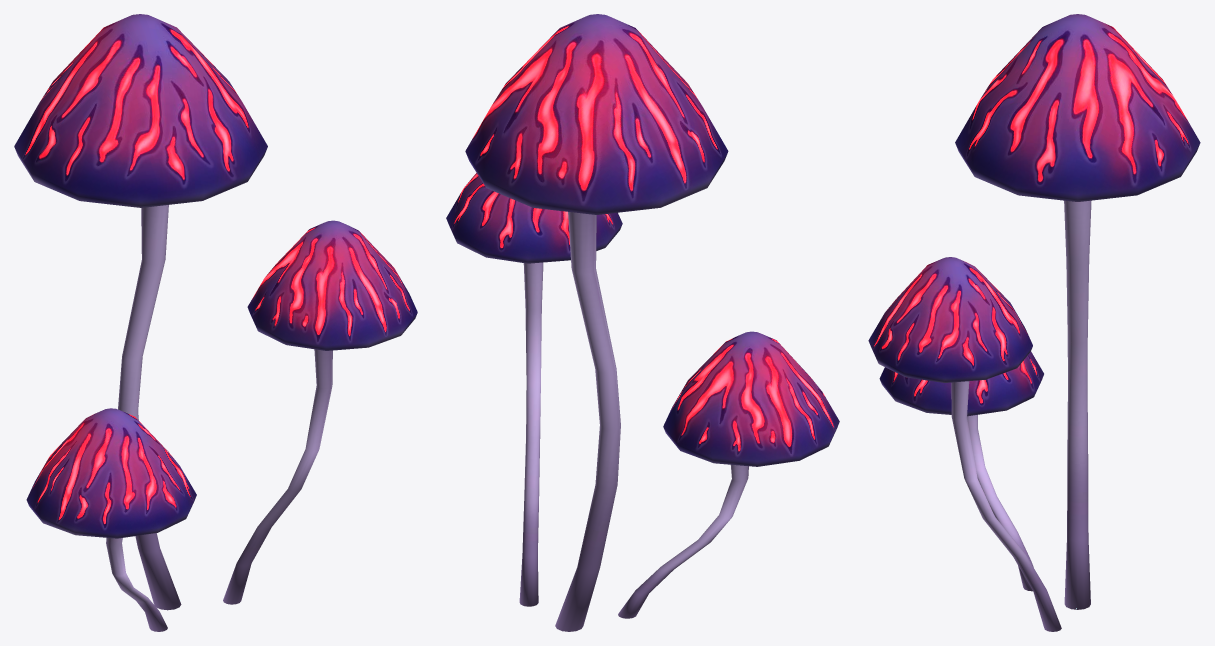
File: twin-mushroom.gltf
3 renders of one model, left to right at view 1: azimuth 30°, elevation 25°; view 2: azimuth 150°, elevation 25°; view 3: azimuth 270°, elevation 25°, orthographic. The views are drawn at different scales.
Visible parts, largest first — view 1: Cylinder; view 2: Cylinder; view 3: Cylinder.
Part boxes in pixels (x1,y1,x2,y2): Cylinder: (14, 14, 417, 631); Cylinder: (446, 14, 839, 631); Cylinder: (868, 14, 1200, 631).
Bounding box in the file's own units: 235 × 366 × 192.
Materials: 2 (1 with a texture image).
